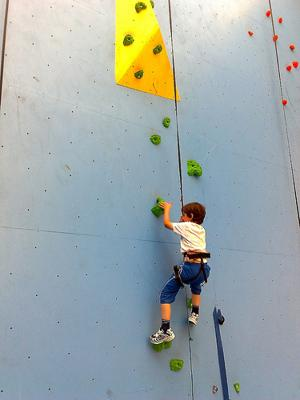person: (150, 200, 211, 345)
